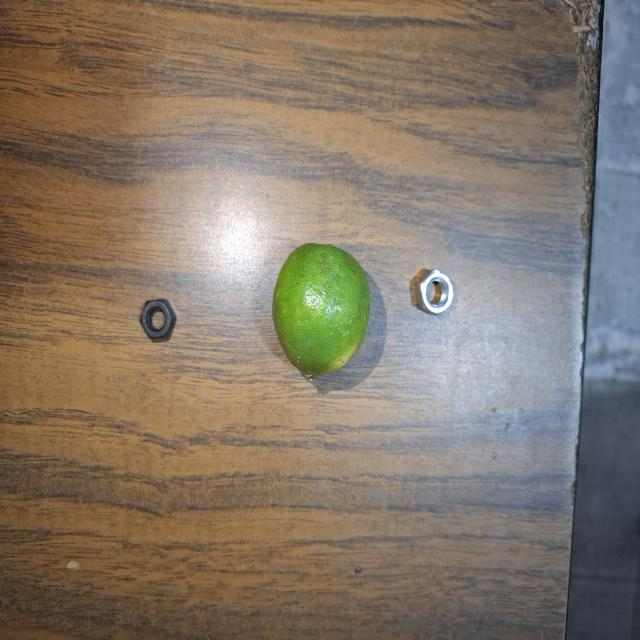limon: (269, 240, 373, 386)
milimetrico: (133, 286, 184, 353)
tuerca: (409, 261, 462, 325)
